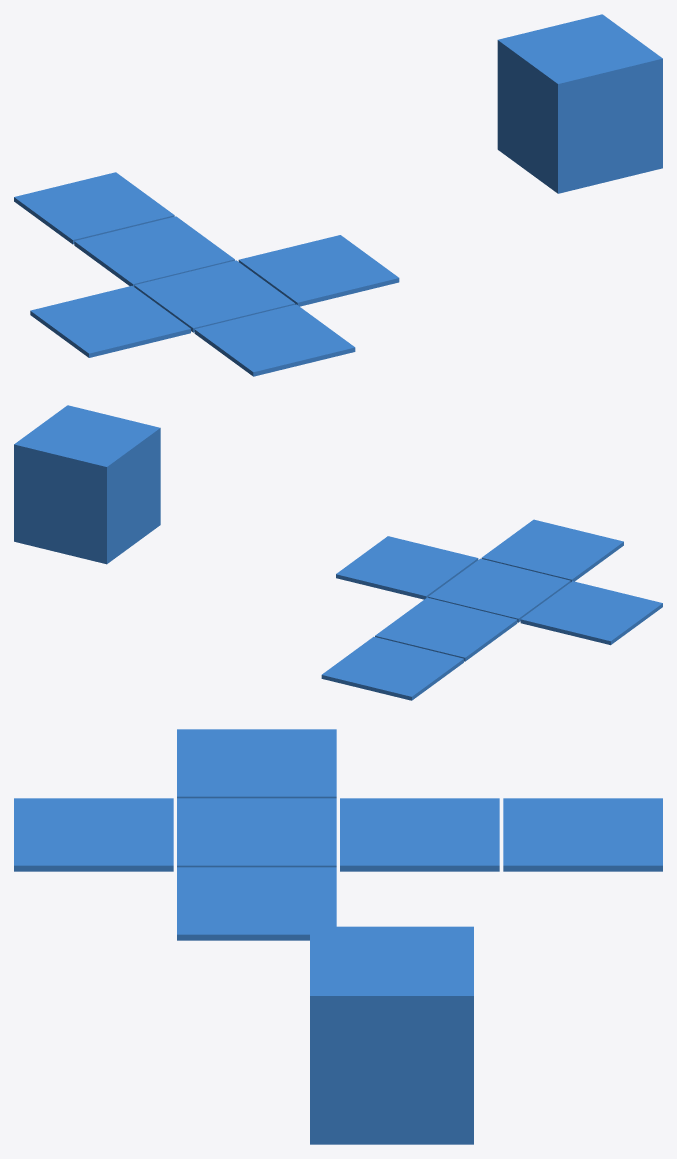
The model's file is Kubus Aja1.fbx.
3 views of the same model, one above another, from view 1: azimuth 30°, elevation 25°; view 2: azimuth 150°, elevation 25°; view 3: azimuth 270°, elevation 25° (orthographic). The views are drawn at different scales.
Parts seen in each view (by area): view 1: Kubus, Depan, Kiri, Kanan, Atas, Belakang, Bawah; view 2: Kubus, Kiri, Atas, Kanan, Belakang, Depan, Bawah; view 3: Kubus, Depan, Atas, Belakang, Kanan, Bawah, Kiri.
Boxes of the visible parts, x1,y1,x2,y2 form: Kubus: [497, 14, 662, 193]; Depan: [194, 304, 355, 376]; Kiri: [30, 286, 190, 357]; Kanan: [238, 235, 399, 306]; Atas: [14, 172, 174, 244]; Belakang: [74, 216, 234, 286]; Bawah: [134, 260, 295, 332]; Kubus: [14, 405, 160, 564]; Kiri: [520, 581, 662, 645]; Atas: [321, 636, 463, 700]; Kanan: [336, 536, 478, 599]; Belakang: [375, 597, 517, 661]; Depan: [481, 519, 623, 581]; Bawah: [428, 558, 570, 622]; Kubus: [310, 926, 473, 1144]; Depan: [14, 798, 173, 871]; Atas: [503, 798, 662, 871]; Belakang: [340, 798, 499, 871]; Kanan: [177, 867, 336, 940]; Bawah: [177, 798, 336, 867]; Kiri: [177, 729, 336, 798].
Bounding box in the file's own units: 1222 × 209 × 814.
